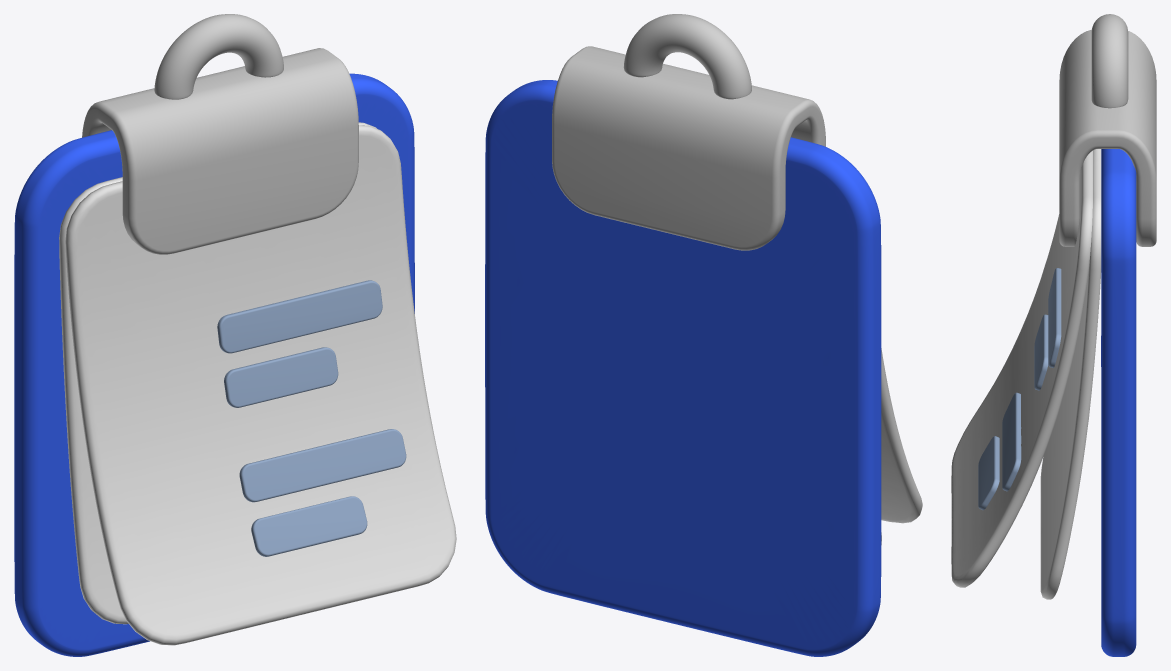
Rendered from checklist-completed-animated-3d-icon-356437590387.glb.
The picture shows the model from 3 angles, left to right: view 1: azimuth 30°, elevation 25°; view 2: azimuth 150°, elevation 25°; view 3: azimuth 270°, elevation 25°; orthographic projection. The views are drawn at different scales.
Visible parts, largest first — view 1: Paper, Lock, Base.010, Text 2, Text 1, Paper 2; view 2: Base.010, Lock, Paper; view 3: Paper, Base.010, Lock, Paper 2, Text 2, Text 1.
Boxes of the visible parts, left/top/right/bottom form: Paper: left=65, top=125, right=456, bottom=645; Lock: left=82, top=14, right=358, bottom=254; Base.010: left=14, top=73, right=414, bottom=656; Text 2: left=239, top=429, right=406, bottom=556; Text 1: left=217, top=280, right=382, bottom=407; Paper 2: left=59, top=122, right=376, bottom=624; Base.010: left=485, top=80, right=881, bottom=656; Lock: left=552, top=14, right=825, bottom=250; Paper: left=881, top=348, right=922, bottom=523; Paper: left=951, top=150, right=1092, bottom=587; Base.010: left=1101, top=149, right=1136, bottom=656; Lock: left=1059, top=14, right=1156, bottom=246; Paper 2: left=1040, top=149, right=1101, bottom=599; Text 2: left=978, top=392, right=1021, bottom=510; Text 1: left=1034, top=268, right=1061, bottom=390.
Size of what is drawn, in the model's own units: 1.6 by 2.37 by 0.7713.
